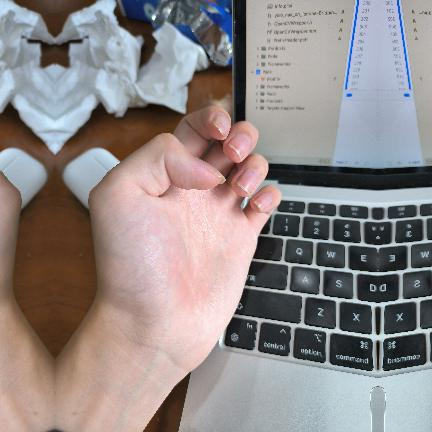Nail: (195, 157, 224, 179), (235, 168, 258, 194), (227, 134, 249, 160), (212, 113, 229, 138), (252, 192, 271, 211)
